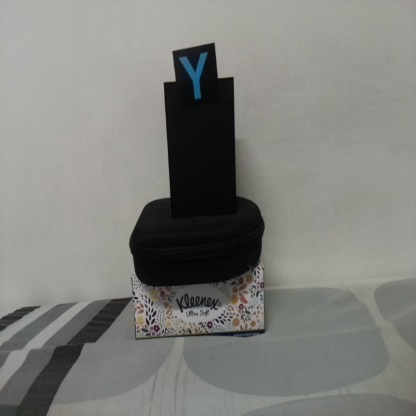id_14: (173, 51, 217, 104)
